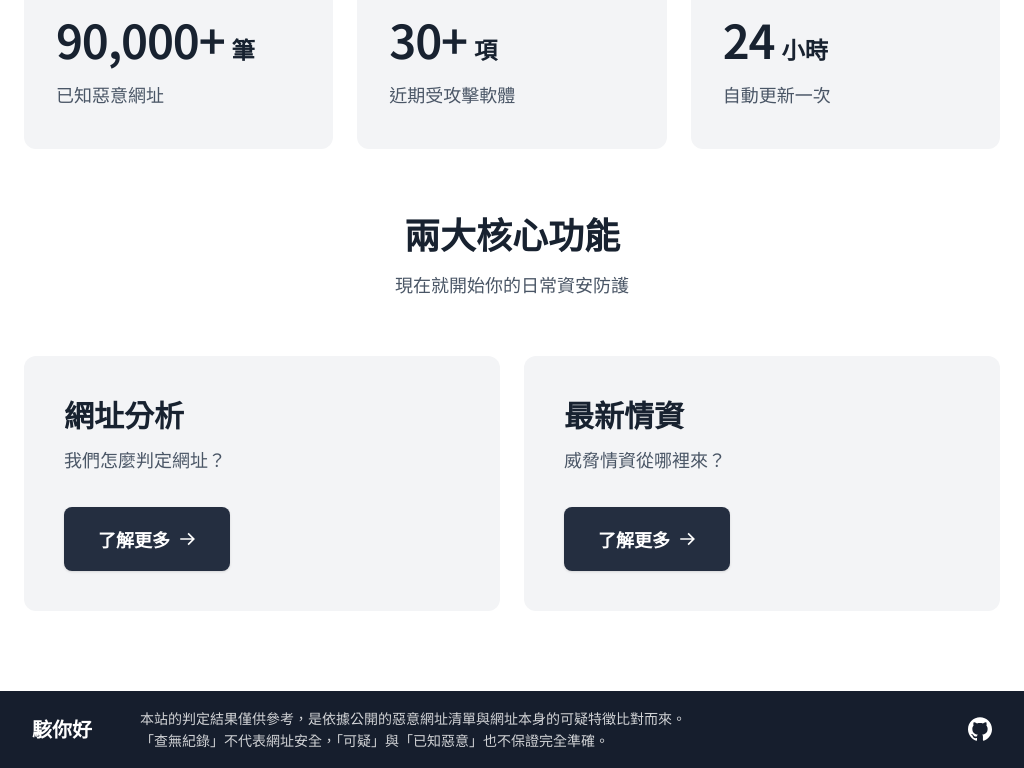
Scenario: 行動按鈕 › 「了解更多網址分析怎麼判定」前往來源與說明頁的「網址分析怎麼判定」段落
(page scrolled)
Click the link named "了解更多網址分析怎麼判定" at (147, 539), box [64, 507, 230, 571]
(page scrolled)
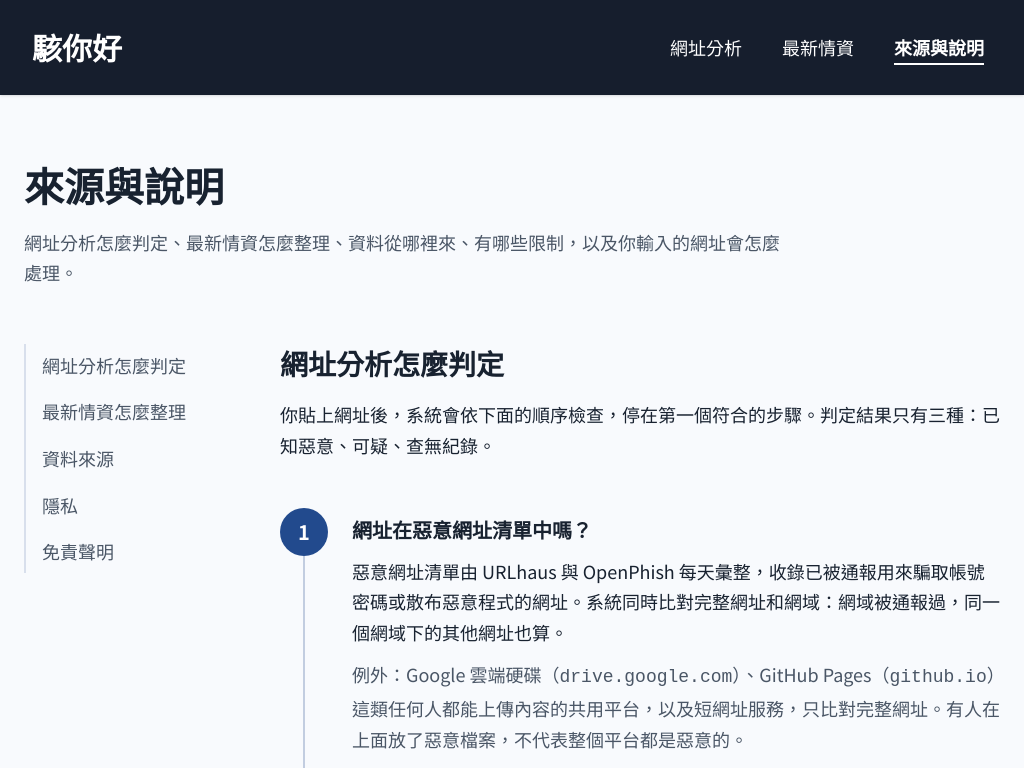
Result: the heading "來源與說明" is shown at [24, 156, 224, 214]
